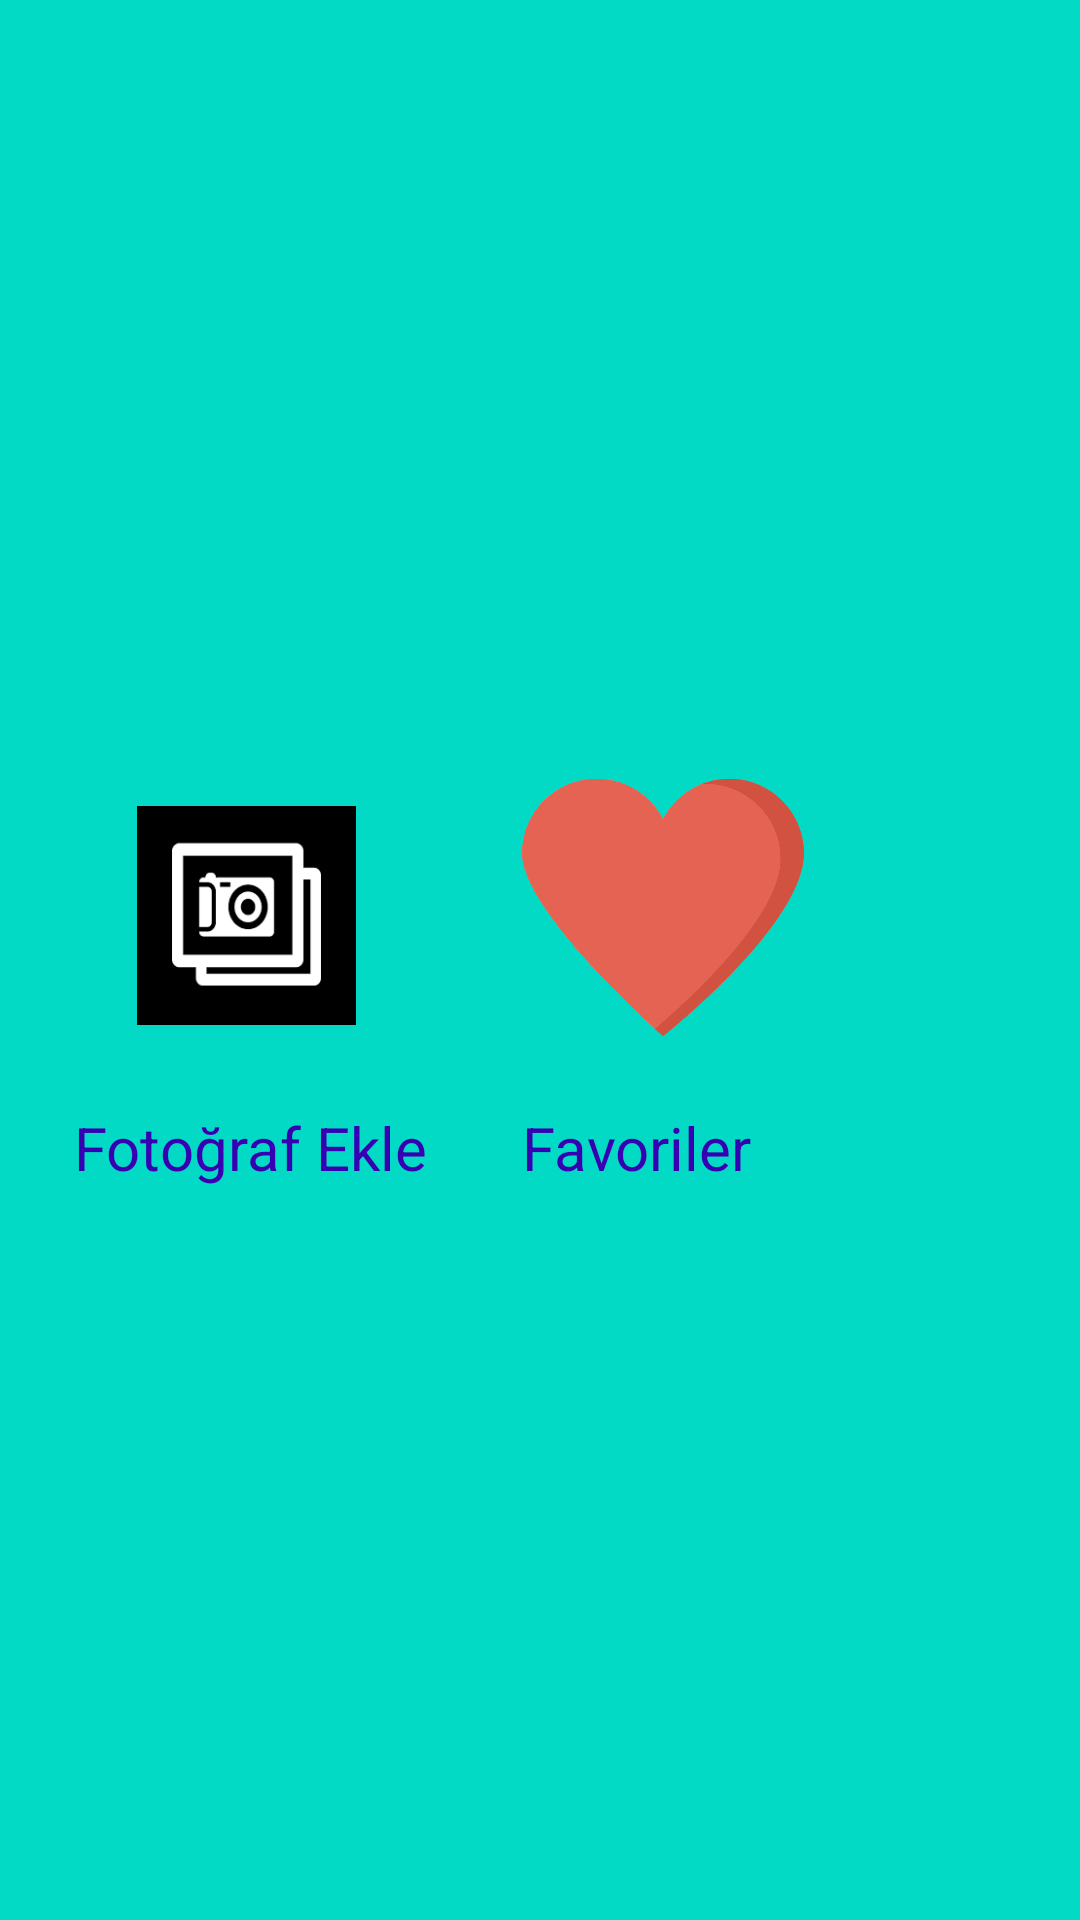

Named icons in this screenshot (1080px x 1920px) and their centers, [x,y]:
images: [246,915]
